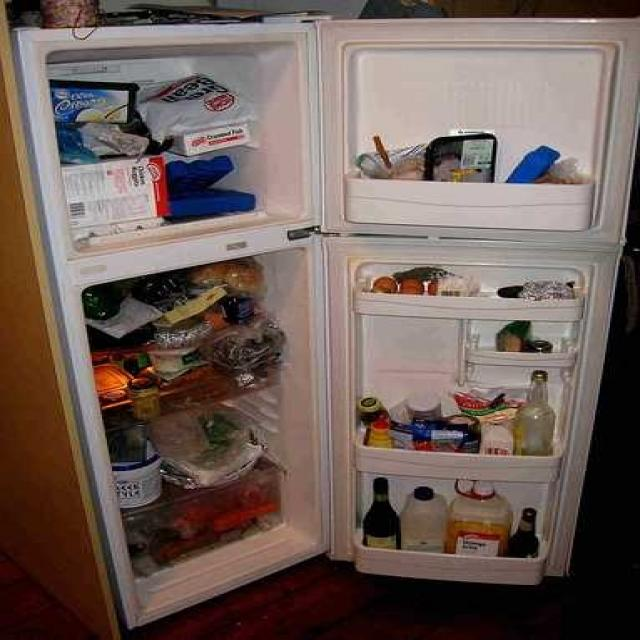refrigerator: (13, 26, 585, 580)
